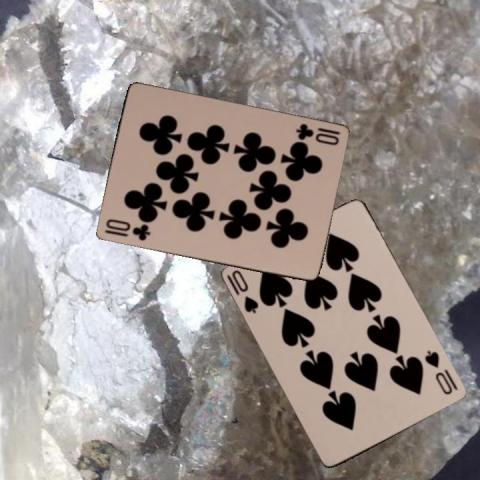10c: (102, 216, 152, 243), (292, 121, 341, 147)
10s: (422, 348, 455, 397), (228, 267, 260, 315)
